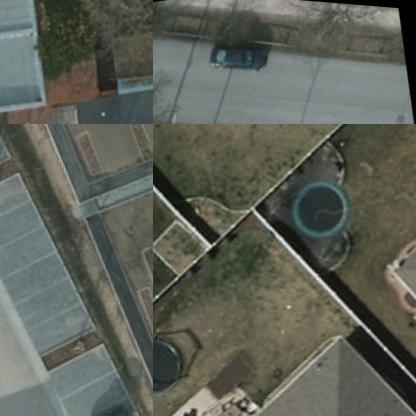car: (211, 29, 273, 77), (91, 400, 148, 415)
